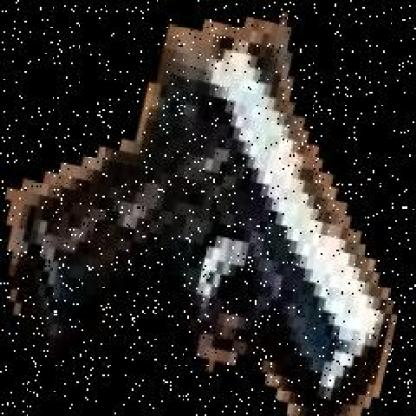handgun: (5, 12, 398, 416)
